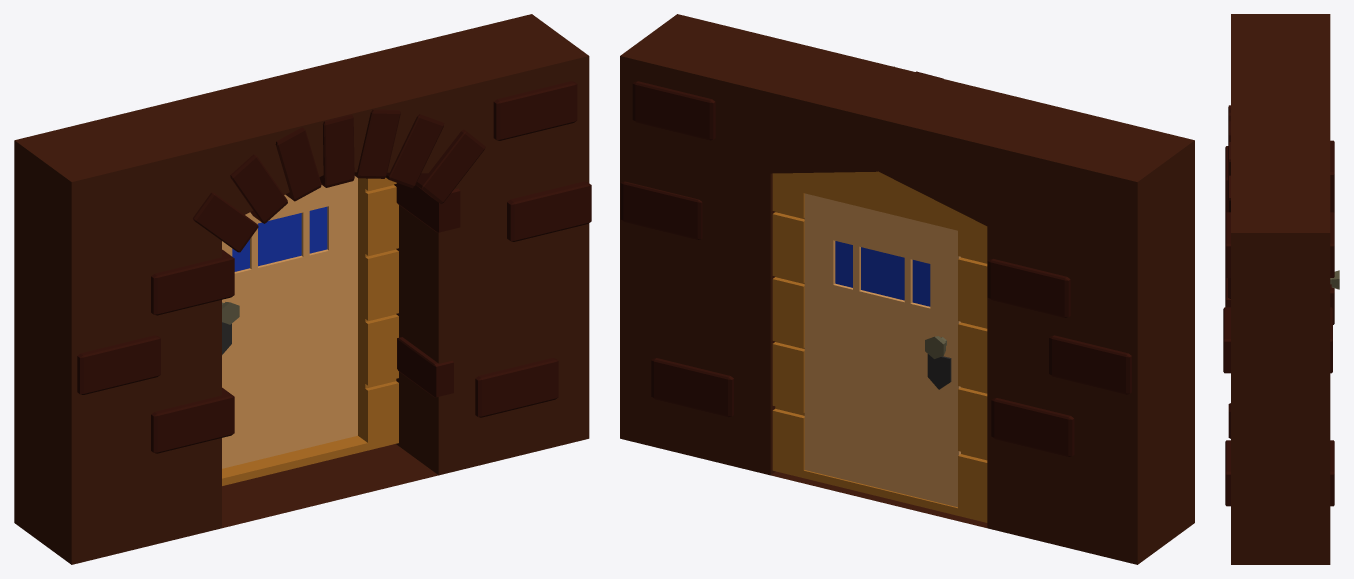
File: Door02_house5.obj
The picture shows the model from 3 angles, left to right: view 1: azimuth 30°, elevation 25°; view 2: azimuth 150°, elevation 25°; view 3: azimuth 270°, elevation 25°; orthographic projection. The views are drawn at different scales.
Visible parts, largest first — view 1: Door02_house5_Cube.008; view 2: Door02_house5_Cube.008; view 3: Door02_house5_Cube.008.
Boxes of the visible parts, x1=… form: Door02_house5_Cube.008: x1=14, y1=14, x2=591, y2=564; Door02_house5_Cube.008: x1=620, y1=14, x2=1194, y2=564; Door02_house5_Cube.008: x1=1223, y1=14, x2=1339, y2=564.
Size of the model in its own units: 4.89 by 3.46 by 1.1.
